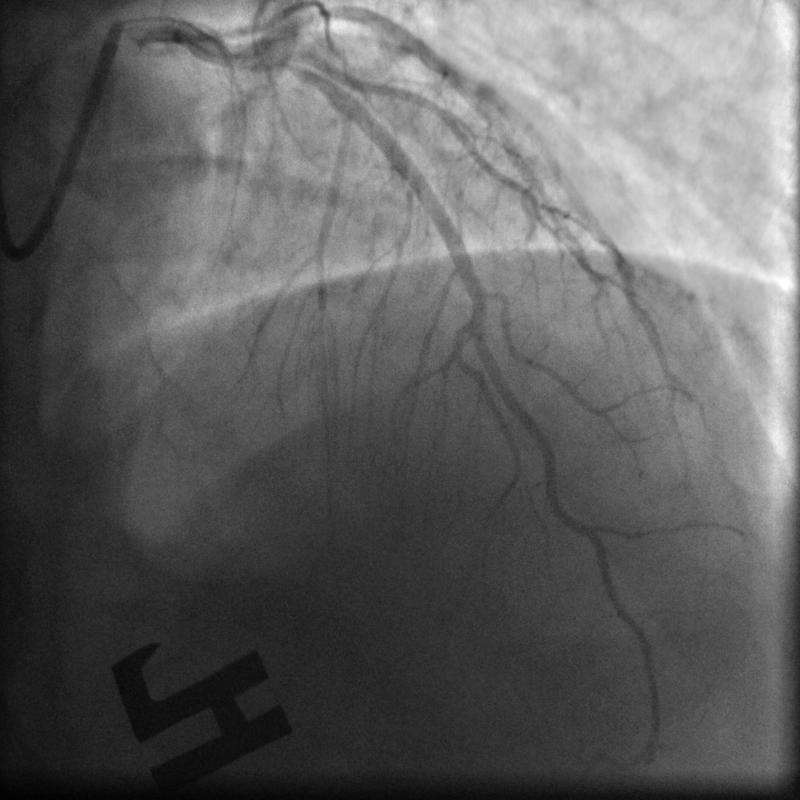Stenosis: (230, 47, 301, 78)
